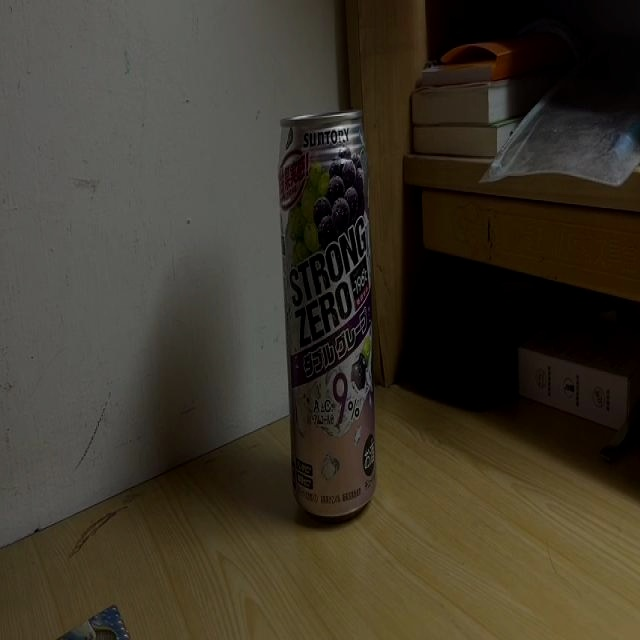Liquor: (279, 107, 377, 525)
